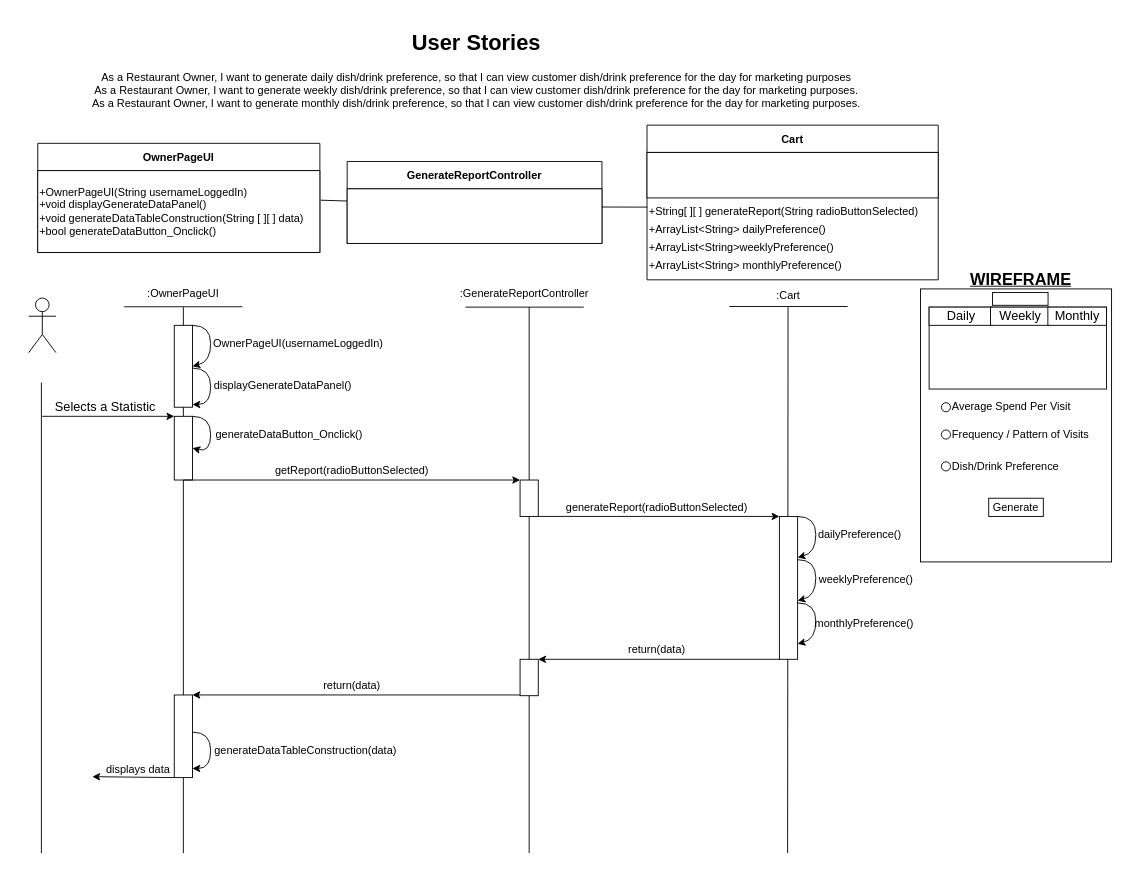
The diagram is 1127 pixels wide and 870 high, and some of its shapes have lost their labels. Here are the shapes that lost their labels. From the top down, the box of each, then its label:
(646, 152, 938, 198): -String[ ][ ] data -String radioButtonSelected
(346, 188, 602, 243): +String[ ][ ] getReport(String radioButtonSelected)
(992, 292, 1048, 305): Log Out
(28, 297, 56, 353): Restaurant Owner
